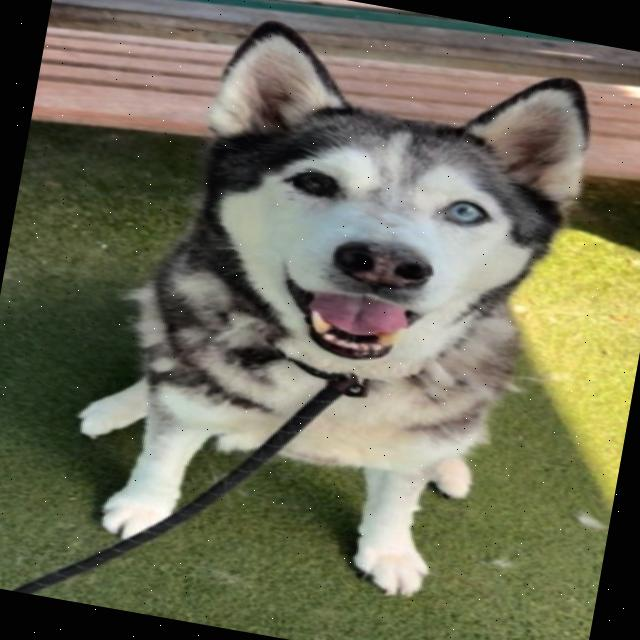siberian_husky_dog: (132, 0, 622, 425)
